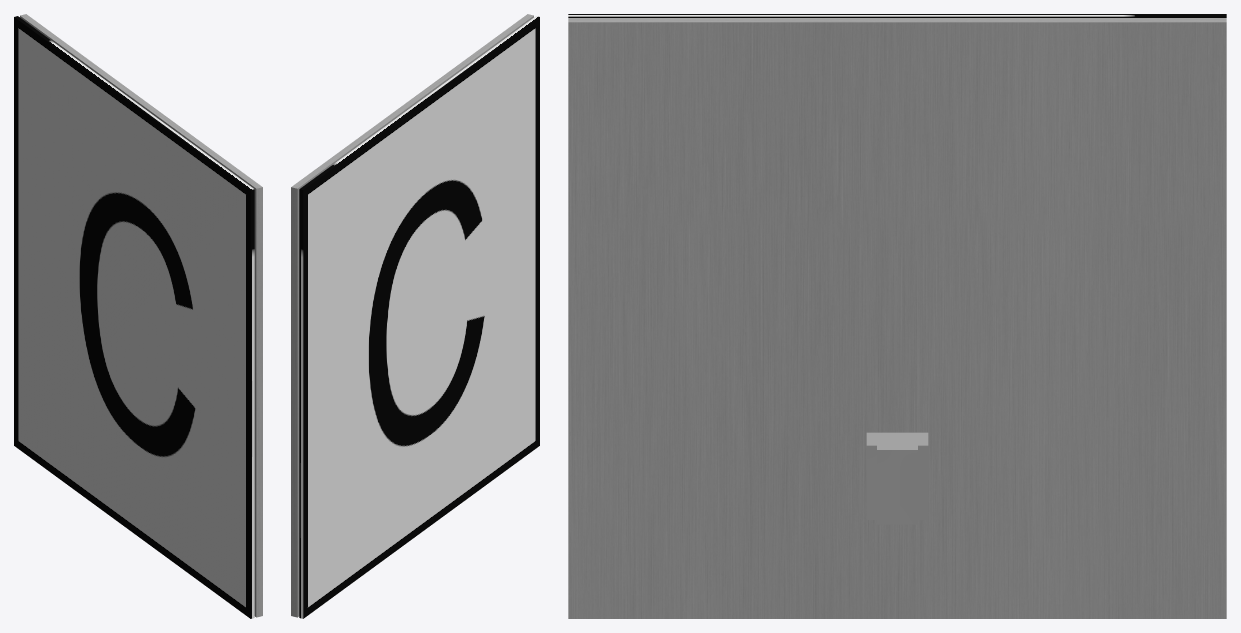
Rendered from route_c.obj.
3 renders of one model, left to right at view 1: azimuth 30°, elevation 25°; view 2: azimuth 150°, elevation 25°; view 3: azimuth 270°, elevation 25°, orthographic. The views are drawn at different scales.
Parts seen in each view (by area): view 1: cube; view 2: cube; view 3: cube.
Part boxes in pixels (x1=…): cube: x1=14, y1=14, x2=262, y2=618; cube: x1=291, y1=14, x2=539, y2=618; cube: x1=568, y1=14, x2=1226, y2=618.
Bounding box in the file's own units: 0.0922 × 1 × 1.
2 materials, 2 textured.
